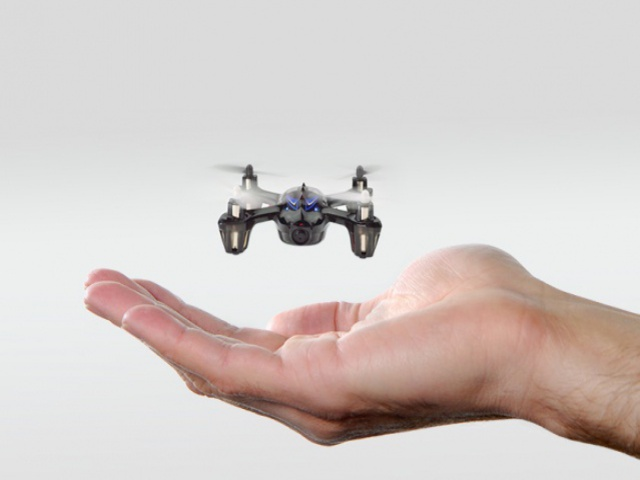drone: (210, 154, 407, 263)
